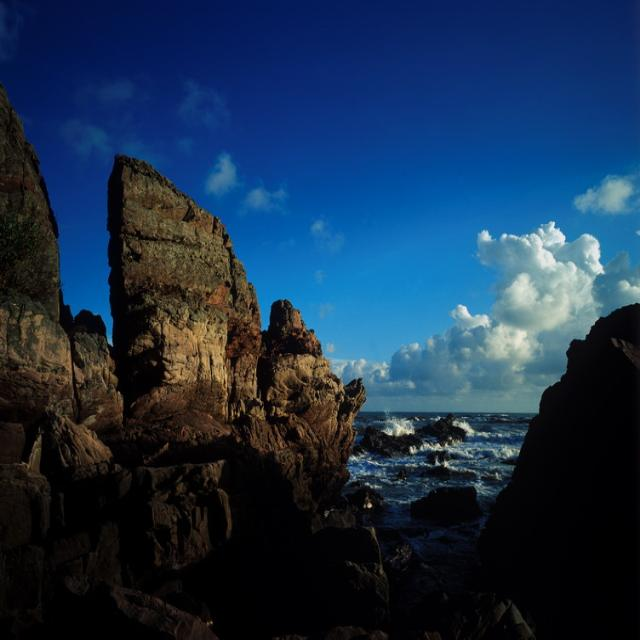reef: (370, 391, 494, 522)
